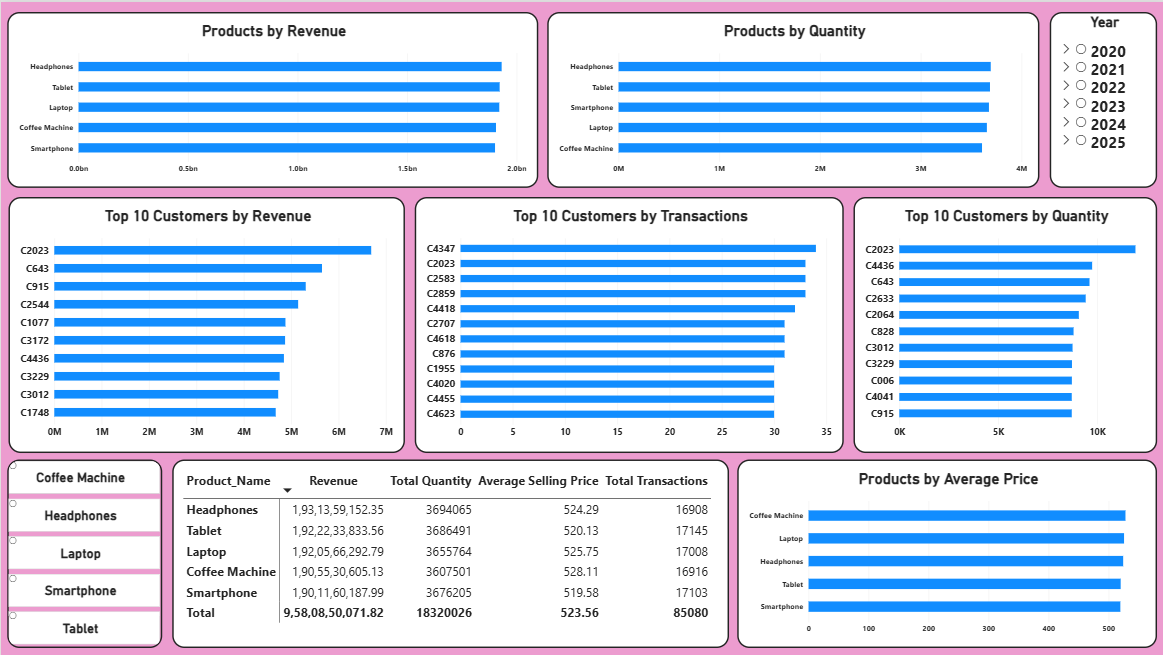

The page's visual inventory and layout, read from the dashboard file:
{"tool":"powerbi","page":{"name":"Page 2","canvas":[1920,1080],"ordinal":1},"visuals":[{"type":"barChart","title":"Products by Revenue","fields":{"Category":["cleaned_financial_transaction.Product_Name"],"Y":["cleaned_financial_transaction.Revenue"]},"box":[10.6,17,874.5,289.4],"z":0},{"type":"barChart","title":"Products by Quantity","fields":{"Category":["cleaned_financial_transaction.Product_Name"],"Y":["cleaned_financial_transaction.Total Quantity"]},"box":[900,17,810.6,289.4],"z":1000},{"type":"barChart","title":"Products by Average Price","fields":{"Category":["cleaned_financial_transaction.Product_Name"],"Y":["cleaned_financial_transaction.Average Selling Price"]},"box":[1212.8,753.2,691.5,310.6],"z":2000},{"type":"barChart","title":"Top 10 Customers by Transactions","fields":{"Category":["cleaned_financial_transaction.Customer_ID"],"Y":["cleaned_financial_transaction.Total Transactions"]},"box":[680.9,321.3,706.4,421.3],"z":3000},{"type":"barChart","title":"Top 10 Customers by Quantity","fields":{"Category":["cleaned_financial_transaction.Customer_ID"],"Y":["cleaned_financial_transaction.Total Quantity"]},"box":[1404.3,321.3,500,421.3],"z":4000},{"type":"pivotTable","fields":{"Values":["cleaned_financial_transaction.Revenue","cleaned_financial_transaction.Total Quantity","cleaned_financial_transaction.Average Selling Price","cleaned_financial_transaction.Total Transactions"],"Rows":["cleaned_financial_transaction.Product_Name"]},"box":[283,753.2,917,310.6],"z":5000},{"type":"barChart","title":"Top 10 Customers by Revenue ","fields":{"Category":["cleaned_financial_transaction.Customer_ID"],"Y":["cleaned_financial_transaction.Revenue"]},"box":[12.8,321.3,653.2,421.3],"z":6000},{"type":"listSlicer","fields":{"Values":["cleaned_financial_transaction.Transaction_Date.Variation.Date Hierarchy.Year","cleaned_financial_transaction.Transaction_Date.Variation.Date Hierarchy.Quarter","cleaned_financial_transaction.Transaction_Date.Variation.Date Hierarchy.Month","cleaned_financial_transaction.Transaction_Date.Variation.Date Hierarchy.Day"]},"box":[1727.7,17,176.6,289.4],"z":7000},{"type":"advancedSlicerVisual","fields":{"Values":["cleaned_financial_transaction.Product_Name"]},"box":[10.6,753.2,255.3,310.6],"z":8000}]}

Visuals, with their boxes in screenshot pixels (x1, y1, x2, y2), scaled from the page's 1920x1080 canvas onto the 1163x655 screenshot:
"Products by Revenue" barChart: <box>6,10,536,186</box>
"Products by Quantity" barChart: <box>545,10,1036,186</box>
"Products by Average Price" barChart: <box>735,457,1153,645</box>
"Top 10 Customers by Transactions" barChart: <box>412,195,840,450</box>
"Top 10 Customers by Quantity" barChart: <box>851,195,1153,450</box>
pivotTable - cleaned_financial_transaction.Revenue x cleaned_financial_transaction.Total Quantity: <box>171,457,727,645</box>
"Top 10 Customers by Revenue " barChart: <box>8,195,403,450</box>
listSlicer - cleaned_financial_transaction.Transaction_Date.Variation.Date Hierarchy.Year x cleaned_financial_transaction.Transaction_Date.Variation.Date Hierarchy.Quarter: <box>1047,10,1153,186</box>
advancedSlicerVisual - cleaned_financial_transaction.Product_Name: <box>6,457,161,645</box>
